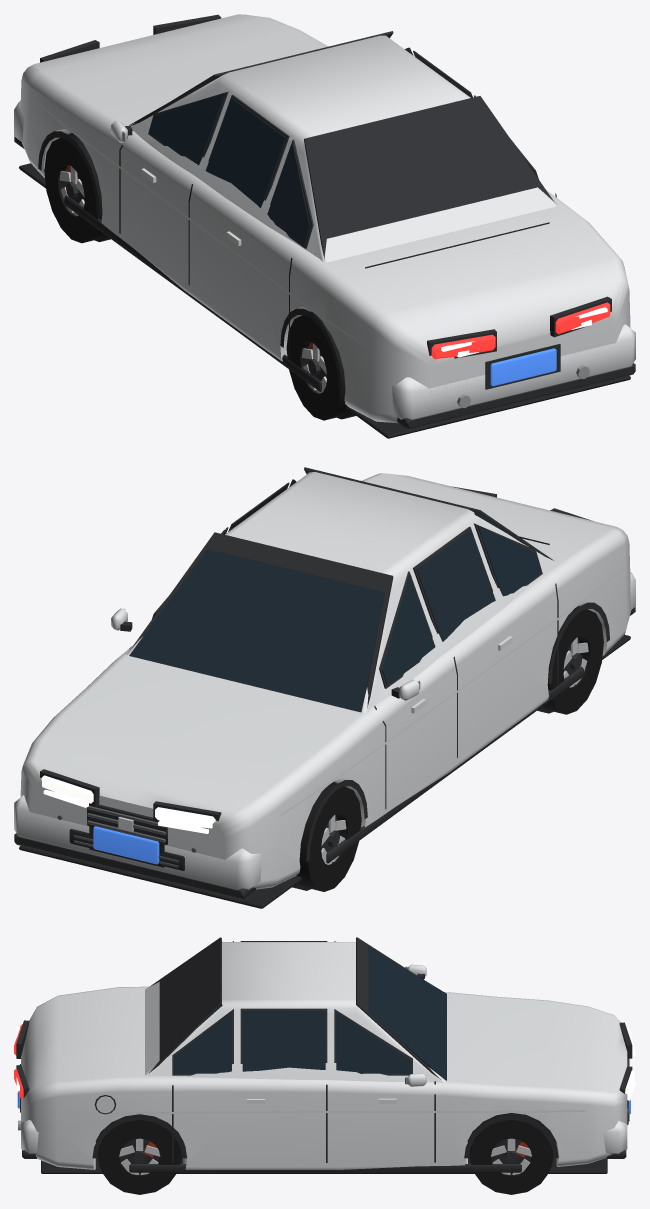
Rendered from car_sedan_standard_white.glb.
3 renders of one model, top to bottom at view 1: azimuth 30°, elevation 25°; view 2: azimuth 150°, elevation 25°; view 3: azimuth 270°, elevation 25°, orthographic. The views are drawn at different scales.
Visible parts, largest first — view 1: Body, Trim, Glass, Wheel_FL, Wheel_RL, Lights, Plate_R; view 2: Body, Glass, Trim, Wheel_FL, Wheel_RL, Lights, Plate_F; view 3: Body, Glass, Trim, Wheel_FR, Wheel_RR, Lights.
Part boxes in pixels (x1,y1,x2,y2): Body: (14,14,635,423); Trim: (14,14,635,438); Glass: (122,34,514,245); Wheel_FL: (44,134,105,243); Wheel_RL: (286,312,349,420); Lights: (431,302,610,359); Plate_R: (490,348,556,386); Body: (14,472,635,889); Glass: (124,472,541,712); Trim: (14,467,635,908); Wheel_FL: (296,783,361,891); Wheel_RL: (542,606,603,714); Lights: (41,775,215,833); Plate_F: (93,826,159,864); Body: (21,942,627,1169); Glass: (174,946,446,1084); Trim: (16,937,632,1173); Wheel_FR: (470,1113,552,1194); Wheel_RR: (98,1114,181,1194); Lights: (14,1024,635,1100).
Size of the model in its own units: 2.03 by 1.49 by 4.72.
